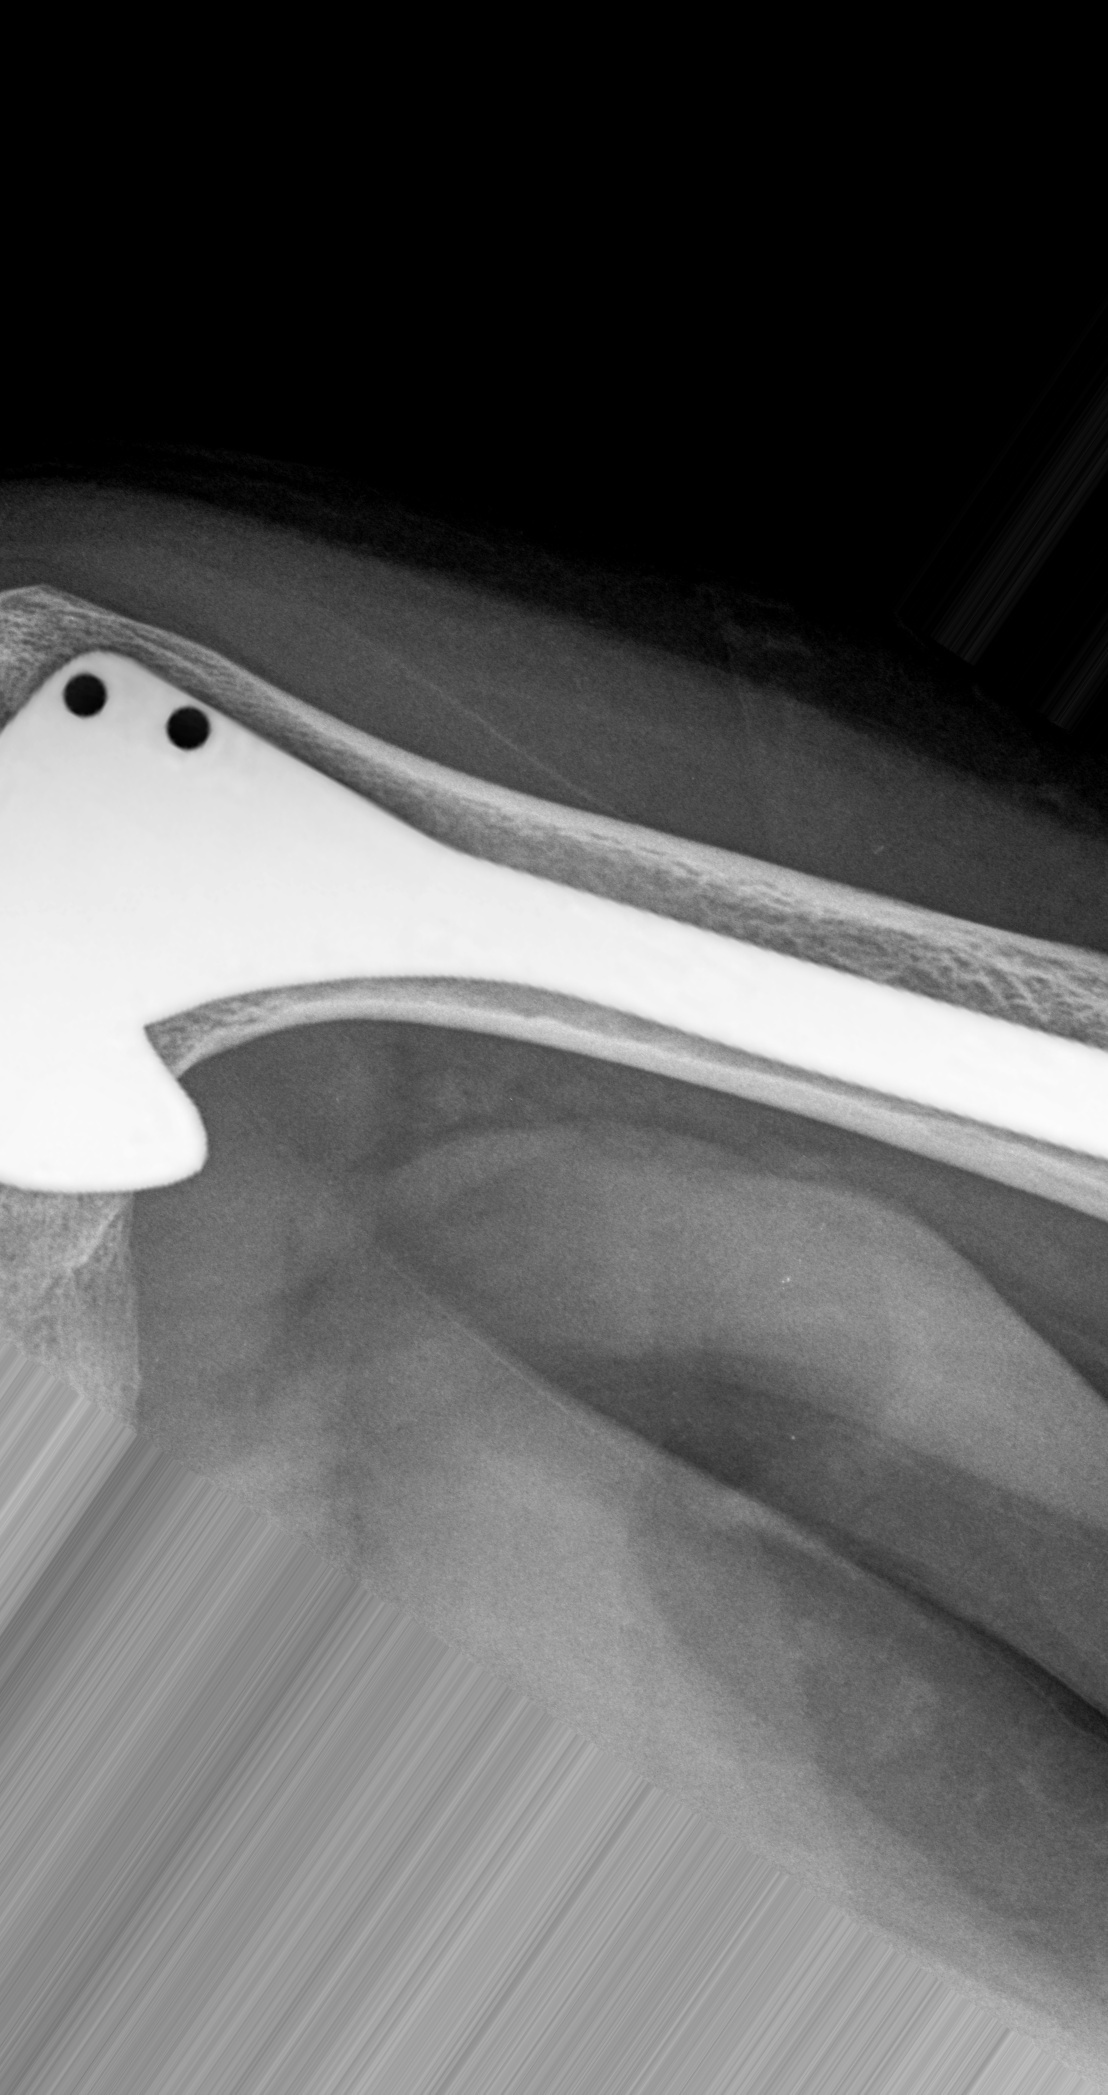Shoulder - Aequalistail - Tornier: (1, 629, 528, 1136)
